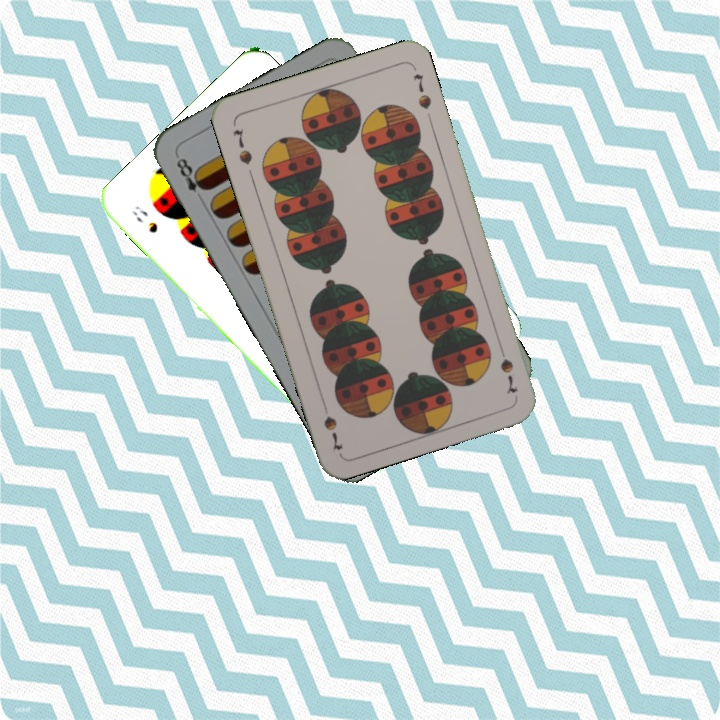E8: (172, 151, 211, 206)
S7: (494, 340, 521, 397), (229, 125, 255, 168)
S8: (129, 201, 161, 236)
